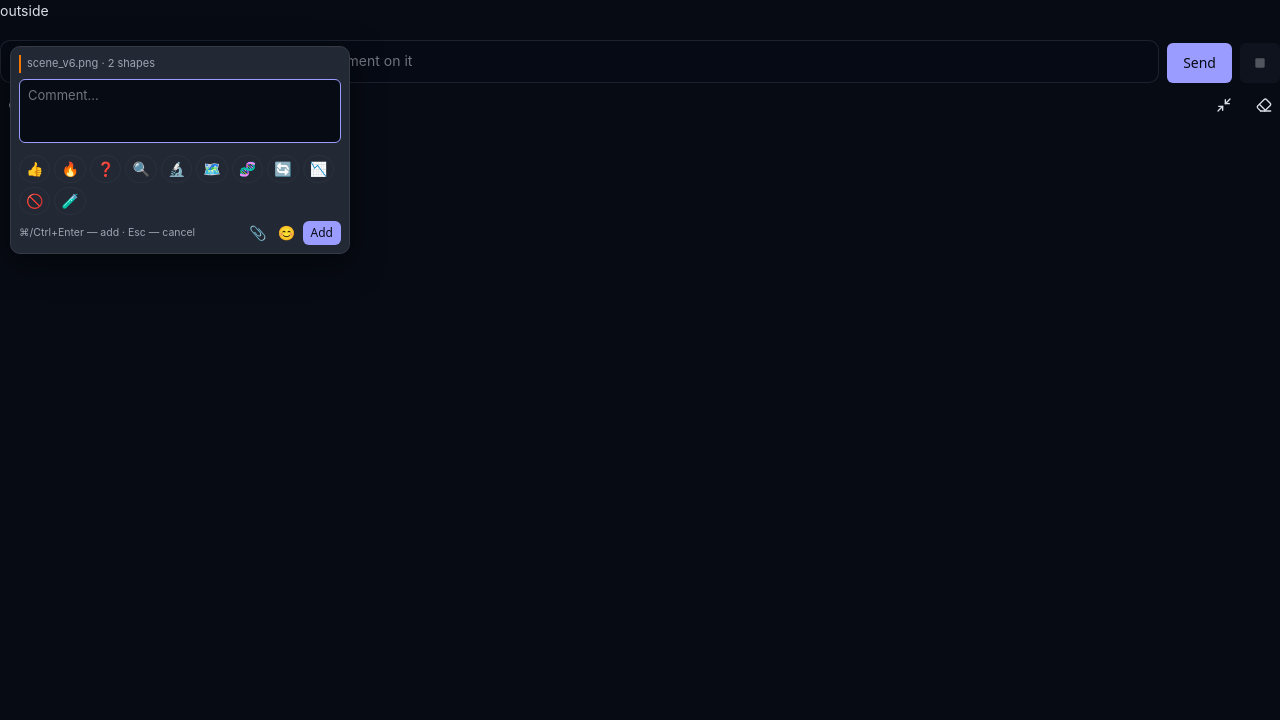
Test case: a failed prepare shows the error and keeps the popup open; nothing is added
The width and height of the screenshot is (1280, 720).
Type "keep me" into the text box with placeholder "Comment…".
click(180, 111); type("keep me")  # box [19, 79, 341, 143]
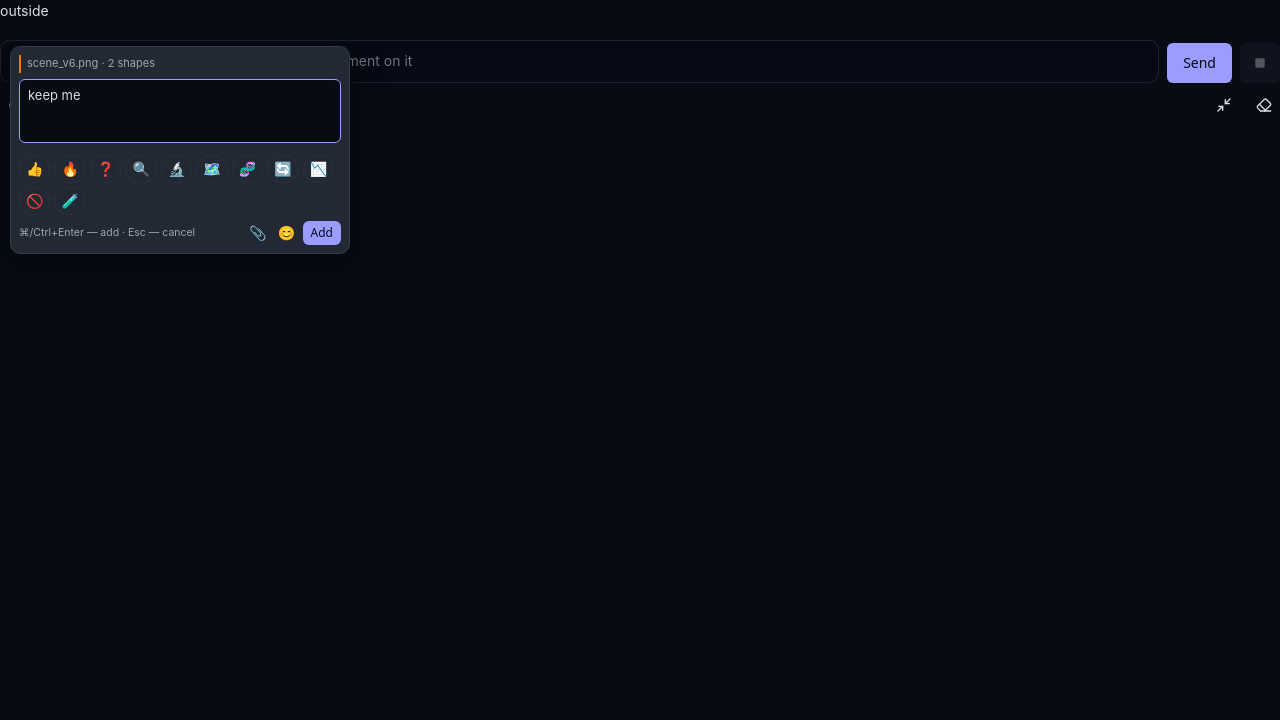
Click the button "Add".
click(322, 233)  # box [303, 221, 341, 245]
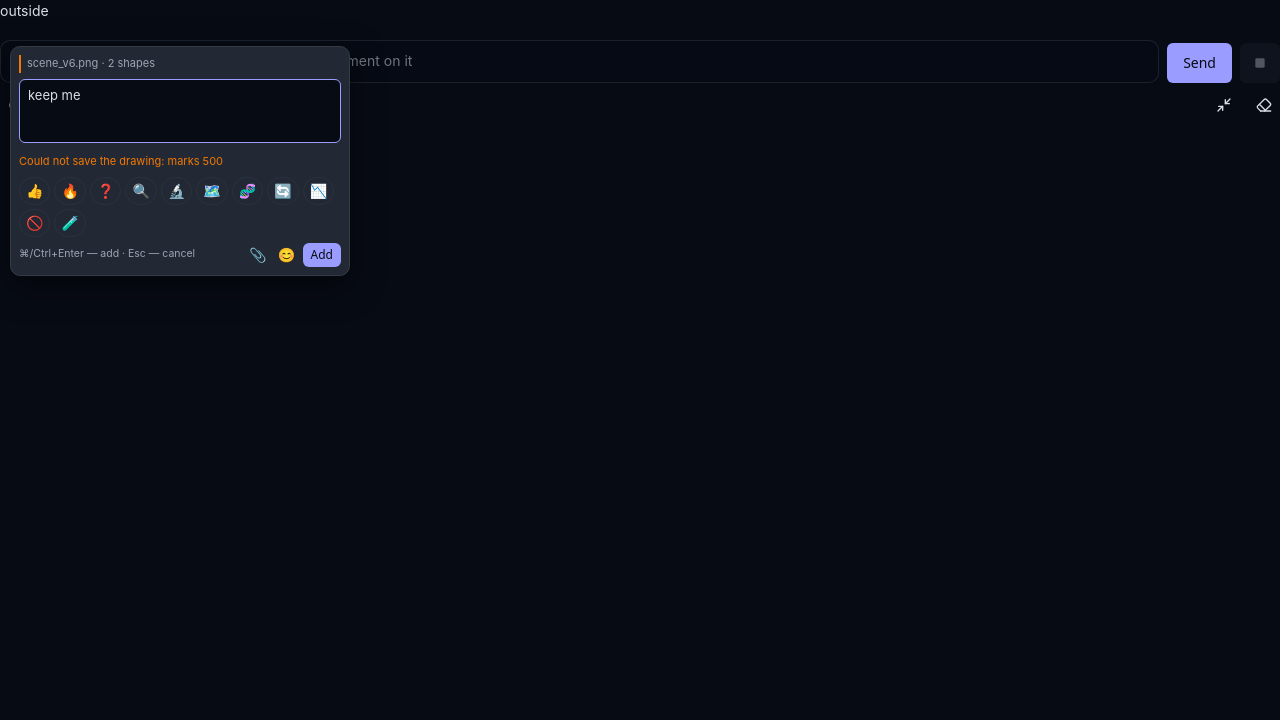
Expected: the button "Add" is enabled, [303, 243, 341, 267]
Expected: the text "Could not save the drawing: marks 500" is shown, [19, 154, 223, 168]
